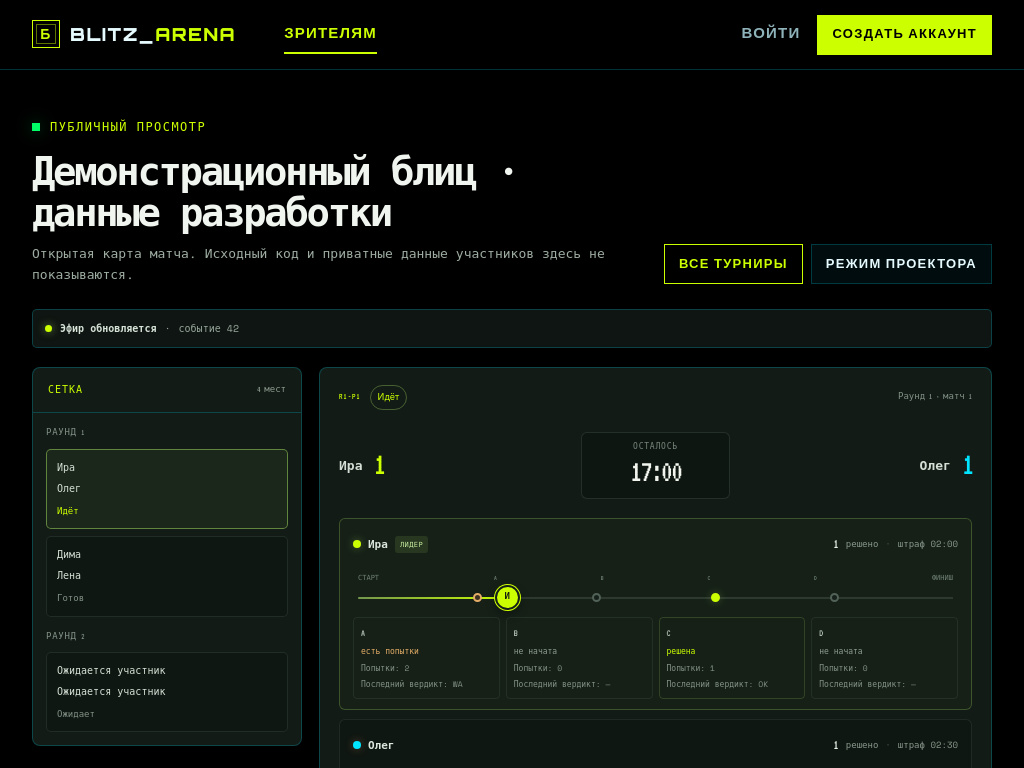
Test: public and private routes › opens an anonymous match map and keeps projector mode free of site navigation
The image size is (1024, 768).
Expected: the heading "Демонстрационный блиц · данные разработки" is shown, [32,141,518,240]
Expected: the navigation bar named "Основная навигация" is shown, [284,16,377,54]
Click the link "Режим проектора": (901, 264) [811,244,992,284]
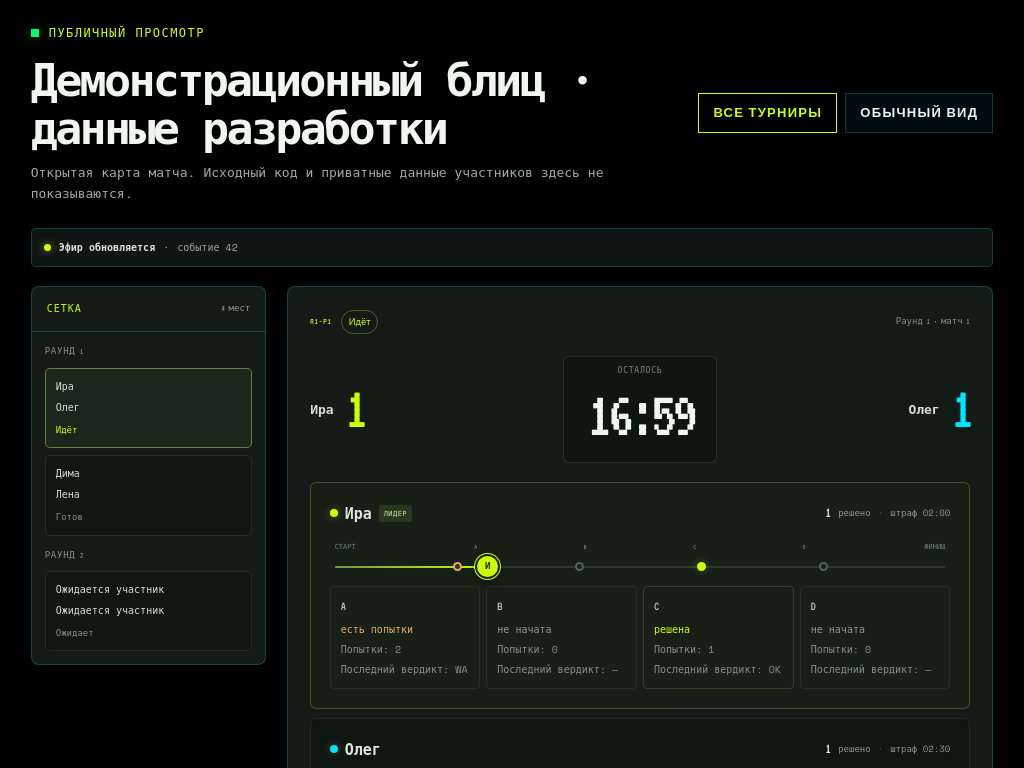
Expected: the link "Обычный вид" is shown, [845,93,993,133]
